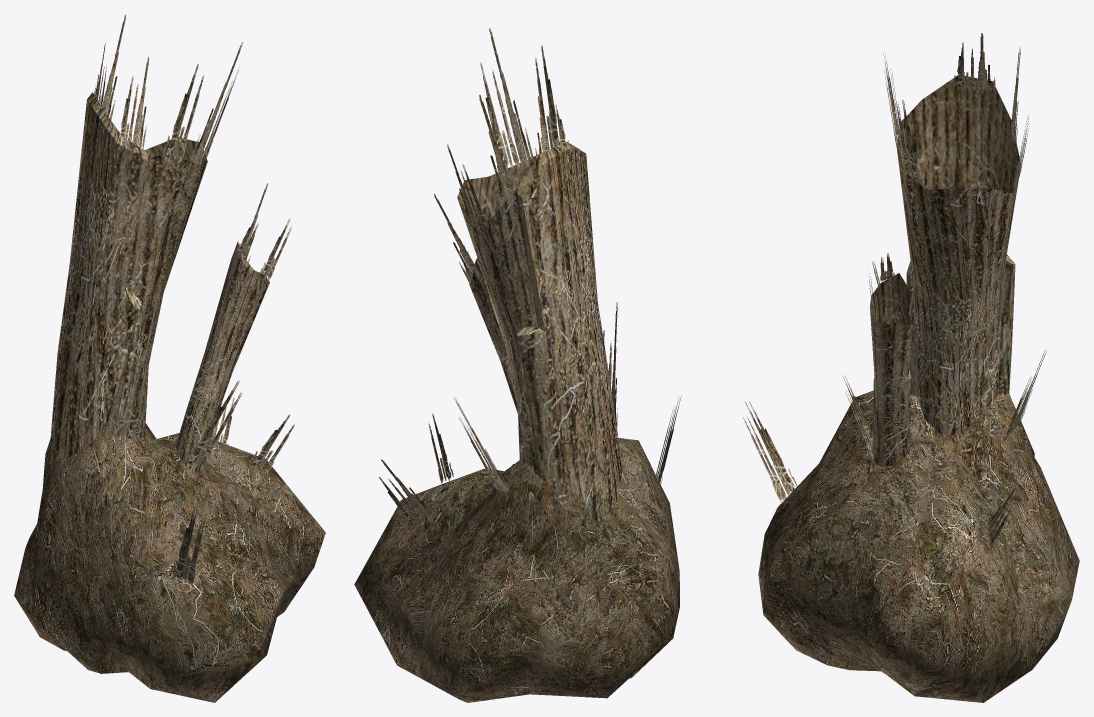
Rendered from poi_all_lair_warren_large_l0.fbx.
The picture shows the model from 3 angles, left to right: view 1: azimuth 30°, elevation 25°; view 2: azimuth 150°, elevation 25°; view 3: azimuth 270°, elevation 25°; orthographic projection.
Parts seen in each view (by area): view 1: mesh_node; view 2: mesh_node; view 3: mesh_node.
Part boxes in pixels (left/top/right/bottom): mesh_node: left=14, top=14, right=325, bottom=702; mesh_node: left=354, top=28, right=681, bottom=702; mesh_node: left=742, top=33, right=1079, bottom=702.
Size of the model in its own units: 3.21 by 6.83 by 3.38.
Materials: 4 (4 with a texture image).
